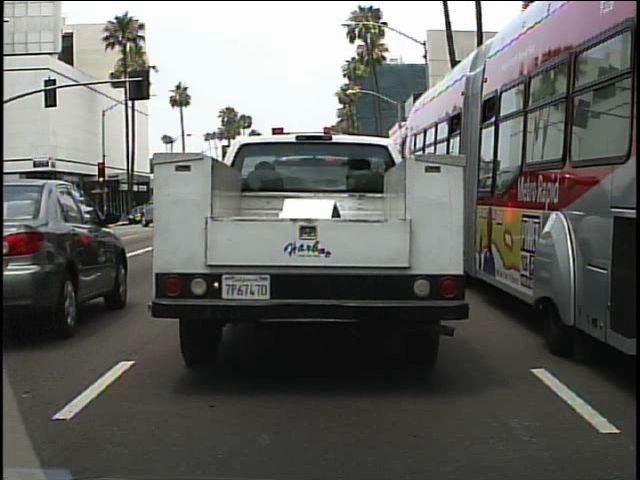person: (22, 203, 41, 238)
